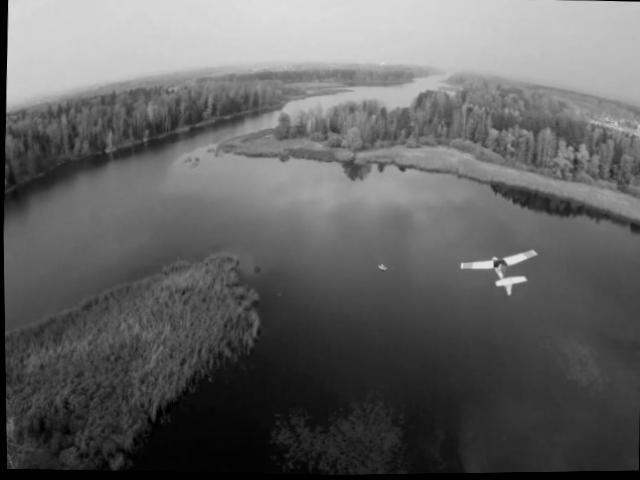hedef: (454, 248, 543, 305)
